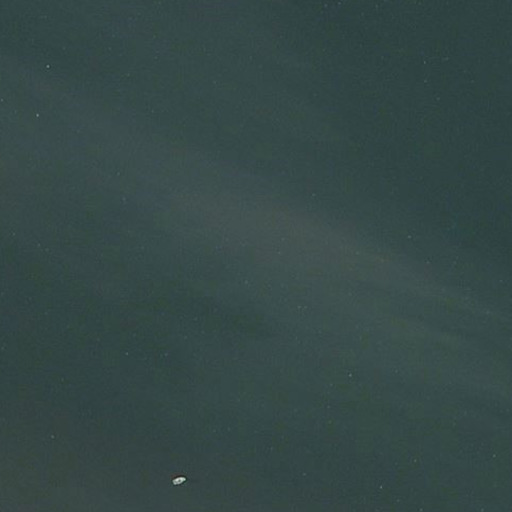ship: (170, 475, 187, 488)
